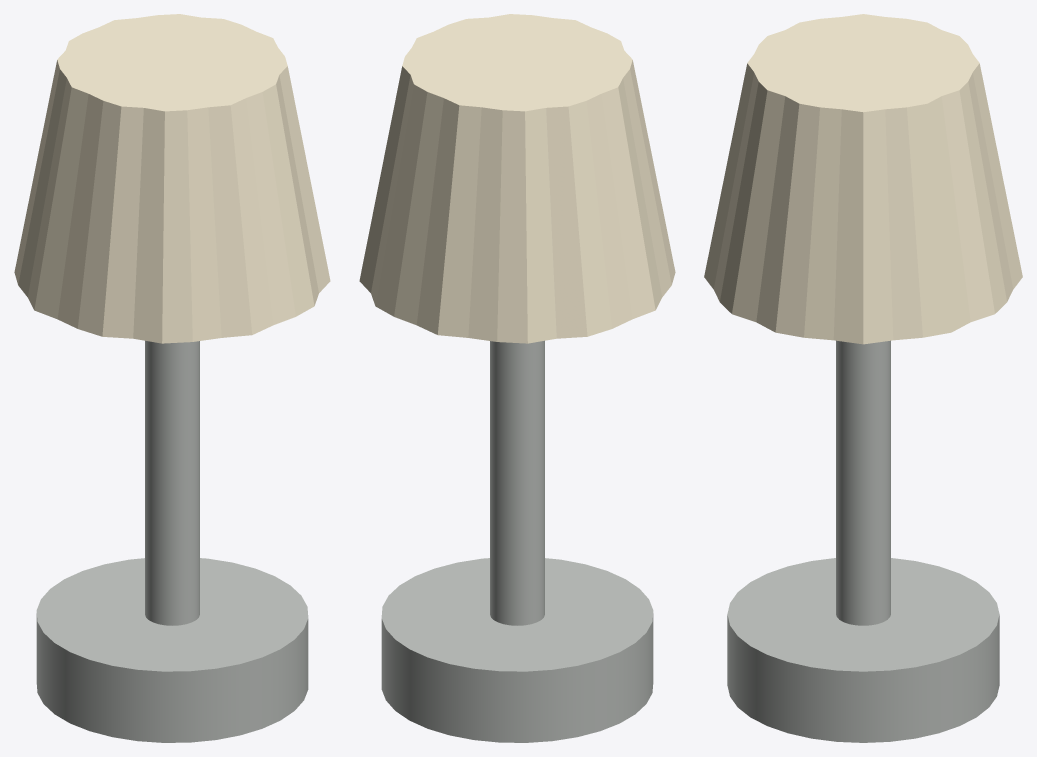
File: wh-silver-table-lamp.glb
3 views of the same model, side by side, from view 1: azimuth 30°, elevation 25°; view 2: azimuth 150°, elevation 25°; view 3: azimuth 270°, elevation 25° (orthographic).
Visible parts, largest first — view 1: Lamp shade.002, Lamp foot.002; view 2: Lamp shade.002, Lamp foot.002; view 3: Lamp shade.002, Lamp foot.002.
Boxes of the visible parts, x1,y1,x2,y2 form: Lamp shade.002: [14, 14, 330, 343]; Lamp foot.002: [36, 340, 308, 742]; Lamp shade.002: [359, 14, 675, 343]; Lamp foot.002: [381, 340, 653, 742]; Lamp shade.002: [704, 14, 1022, 344]; Lamp foot.002: [727, 340, 999, 742].
Size of the model in its own units: 0.13 by 0.28 by 0.13.
